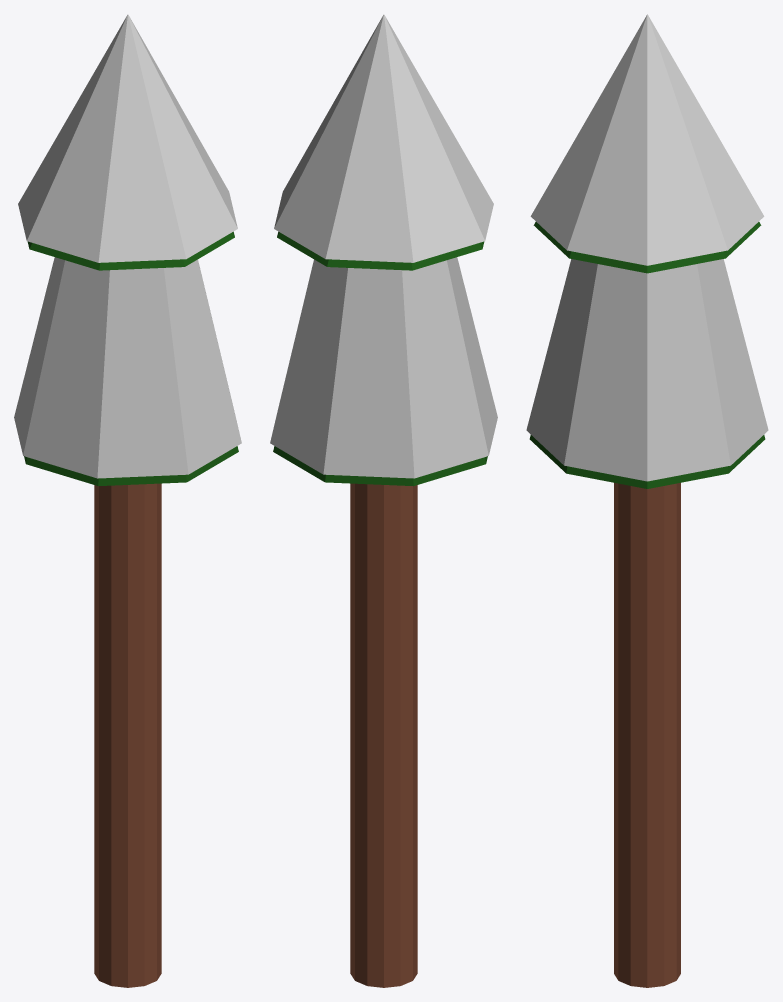
Rendered from Tree_21_winter_mat.fbx.
The picture shows the model from 3 angles, left to right: view 1: azimuth 30°, elevation 25°; view 2: azimuth 150°, elevation 25°; view 3: azimuth 270°, elevation 25°; orthographic projection.
Visible parts, largest first — view 1: Tree_21_winter_mat; view 2: Tree_21_winter_mat; view 3: Tree_21_winter_mat.
Part boxes in pixels (<box>): Tree_21_winter_mat: <box>14,14,241,987</box>; Tree_21_winter_mat: <box>270,14,497,987</box>; Tree_21_winter_mat: <box>526,14,768,987</box>.
Size of the model in its own units: 3.2 by 14 by 3.2.
